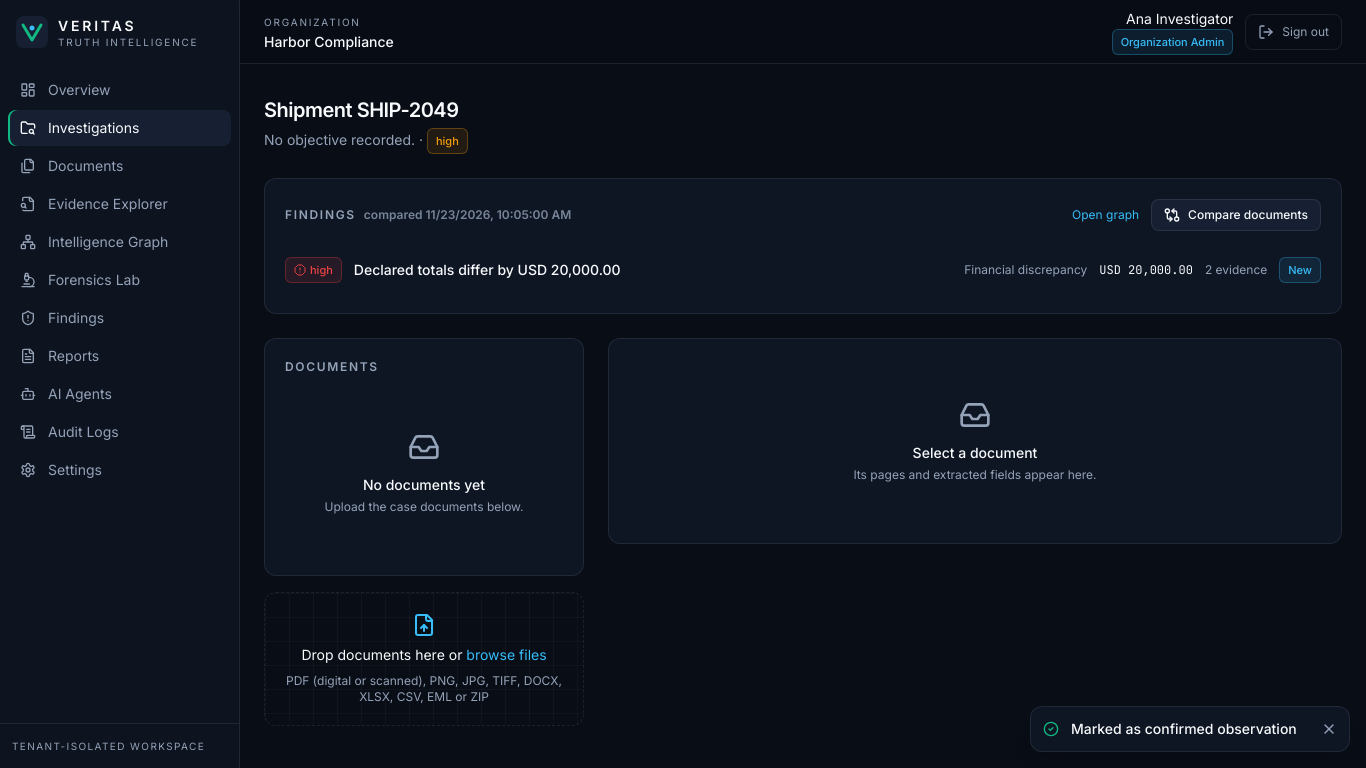
Test case: the case workspace lists the case findings and queues a comparison
expect the text "2 evidence" is shown: met, box x1=1205 y1=262 x2=1267 y2=278
Click the button "Compare documents" at (1236, 215), box x1=1151 y1=199 x2=1321 y2=231
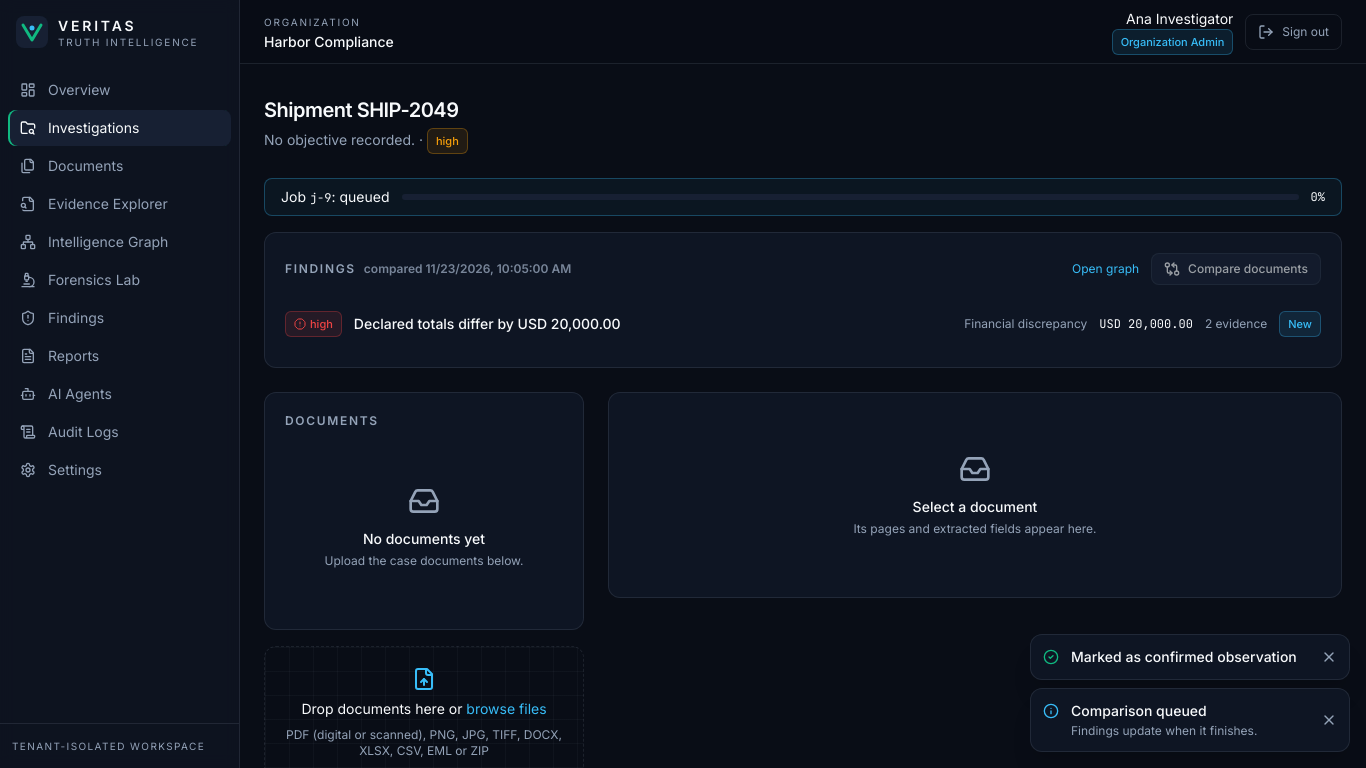
expect the text "Comparison queued" is shown: met, box x1=1071 y1=702 x2=1207 y2=719
